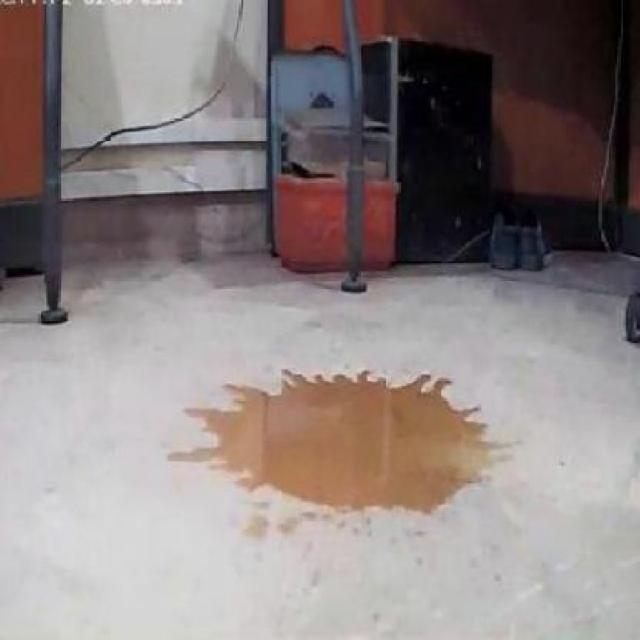spillage: (178, 372, 493, 517)
